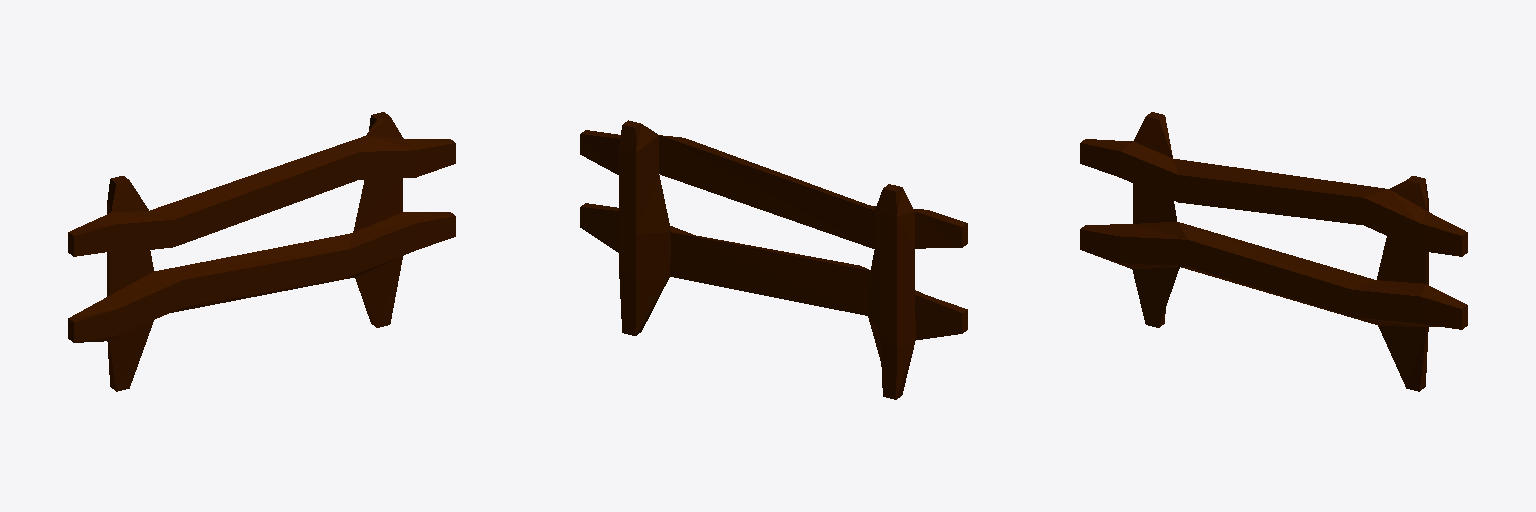
File: barriere1.obj
3 renders of one model, left to right at view 1: azimuth 30°, elevation 25°; view 2: azimuth 150°, elevation 25°; view 3: azimuth 330°, elevation 25°, orthographic.
Parts seen in each view (by area): view 1: piquet; view 2: piquet; view 3: piquet.
Part boxes in pixels (bbox=[...]): piquet: bbox=[68, 112, 455, 391]; piquet: bbox=[580, 120, 967, 399]; piquet: bbox=[1080, 112, 1467, 391].
Bounding box in the file's own units: 12.33 × 6.43 × 1.11.